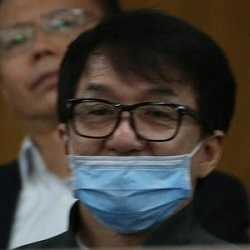mask: (66, 140, 196, 235)
